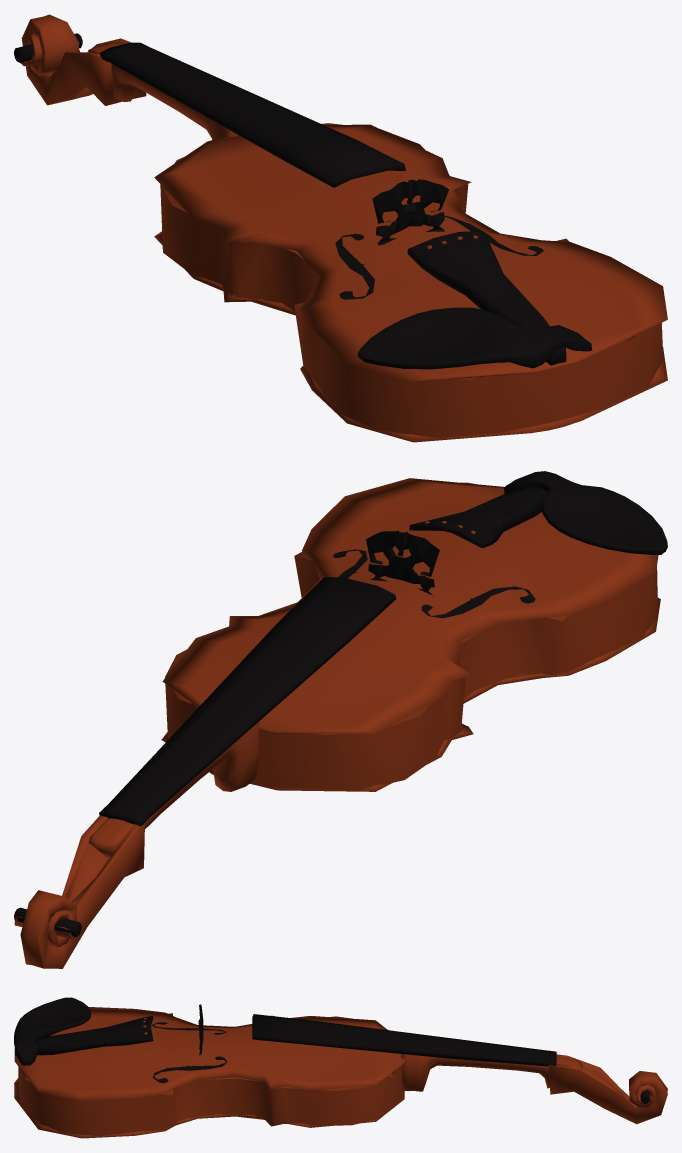
The model's file is ViolinBody.fbx.
3 views of the same model, one above another, from view 1: azimuth 30°, elevation 25°; view 2: azimuth 150°, elevation 25°; view 3: azimuth 270°, elevation 25° (orthographic). The views are drawn at different scales.
Parts seen in each view (by area): view 1: VIOLIN; view 2: VIOLIN; view 3: VIOLIN.
Boxes of the visible parts, x1,y1,x2,y2 form: VIOLIN: [14, 14, 667, 442]; VIOLIN: [14, 471, 667, 968]; VIOLIN: [14, 997, 667, 1138].
Bounding box in the file's own units: 158 × 87.06 × 461.
